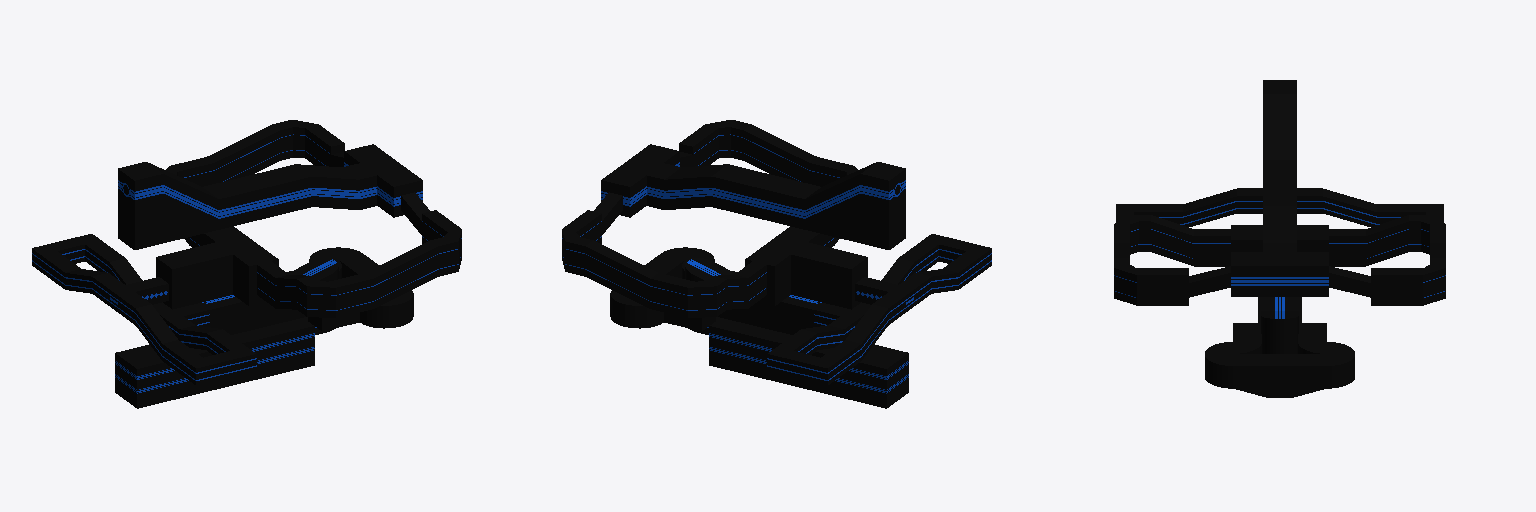
File: utopia.obj
3 views of the same model, side by side, from view 1: azimuth 30°, elevation 25°; view 2: azimuth 150°, elevation 25°; view 3: azimuth 270°, elevation 25° (orthographic).
Visible parts, largest first — view 1: Map.011; view 2: Map.011; view 3: Map.011.
Boxes of the visible parts, x1=… form: Map.011: x1=32, y1=120, x2=461, y2=408; Map.011: x1=562, y1=120, x2=991, y2=408; Map.011: x1=1114, y1=80, x2=1445, y2=397.
Bounding box in the file's own units: 828 × 629 × 840.